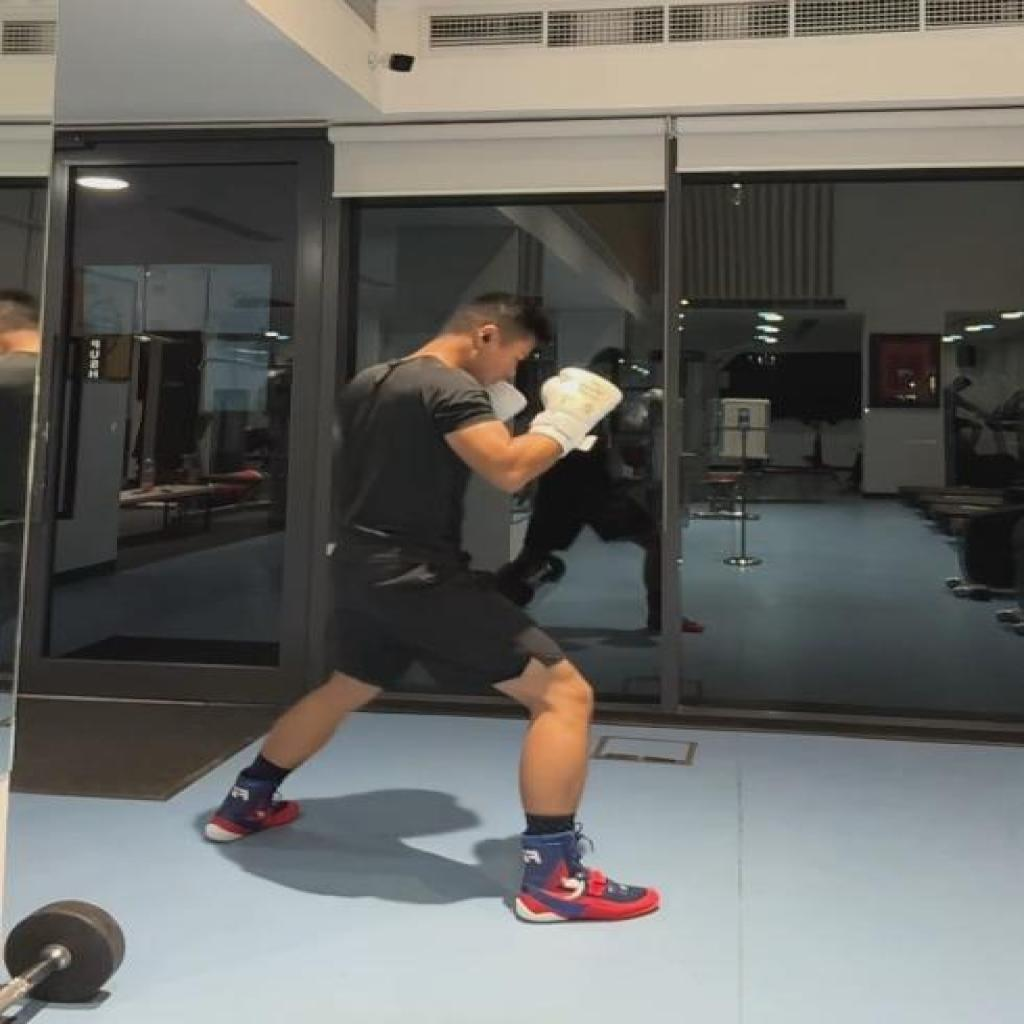no punch: (196, 286, 666, 928)
